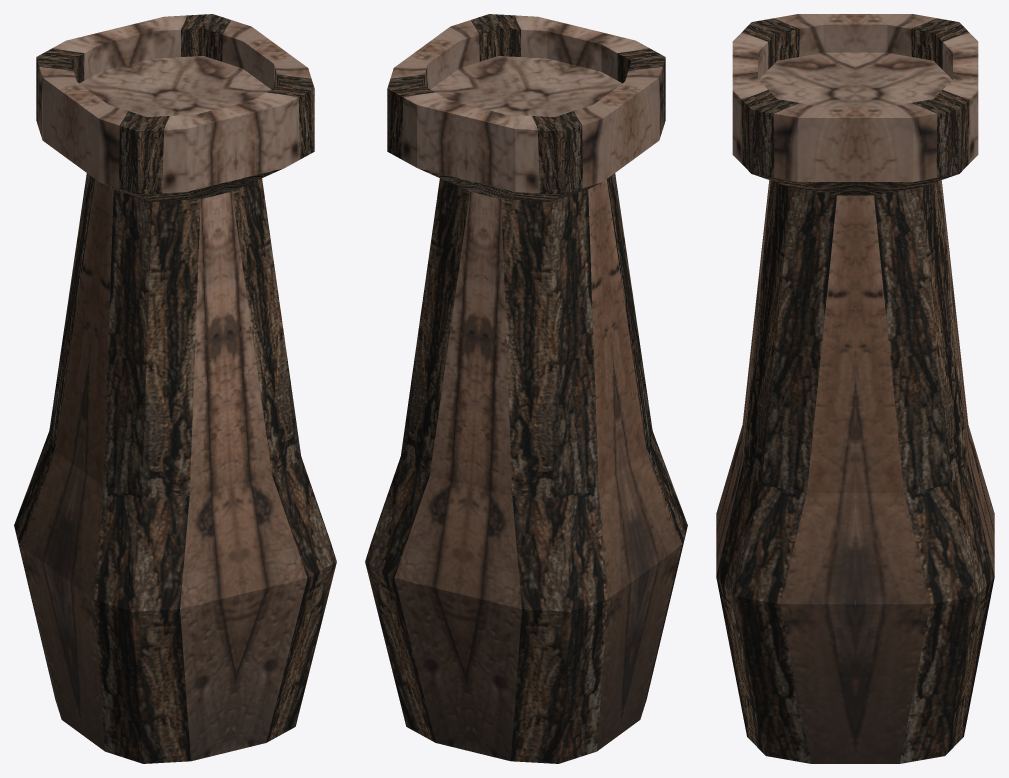
File: toren_2.fbx
3 renders of one model, left to right at view 1: azimuth 30°, elevation 25°; view 2: azimuth 150°, elevation 25°; view 3: azimuth 270°, elevation 25°, orthographic.
Parts seen in each view (by area): view 1: Cube; view 2: Cube; view 3: Cube.
Boxes of the visible parts, x1,y1,x2,y2 form: Cube: [14, 14, 336, 763]; Cube: [365, 14, 687, 763]; Cube: [716, 14, 994, 763].
Bounding box in the file's own units: 533 × 1379 × 533.
